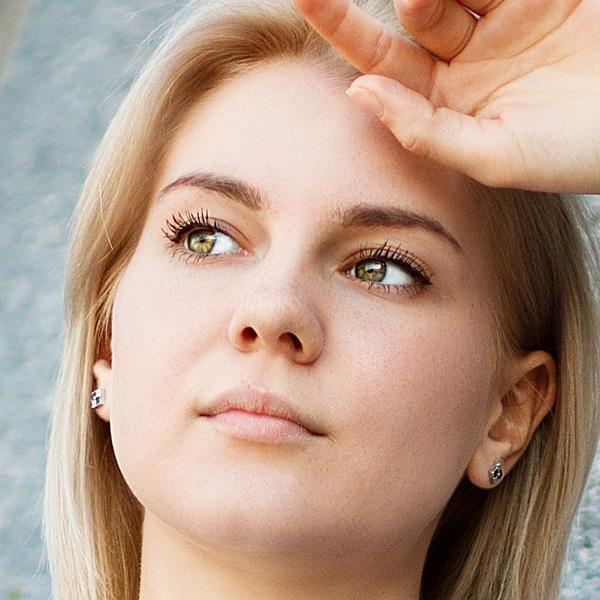Eyes: (152, 205, 262, 278), (324, 234, 436, 304)
